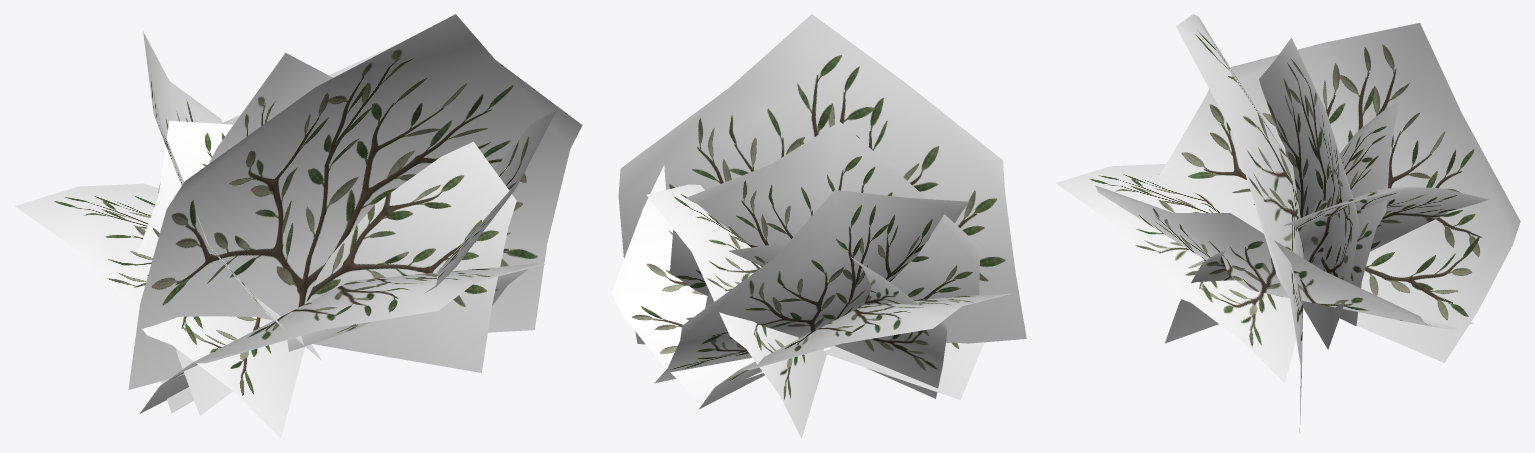
Rendered from Plant.fbx.
The picture shows the model from 3 angles, left to right: view 1: azimuth 30°, elevation 25°; view 2: azimuth 150°, elevation 25°; view 3: azimuth 270°, elevation 25°; orthographic projection. The views are drawn at different scales.
Visible parts, largest first — view 1: Plant_LOD0; view 2: Plant_LOD0; view 3: Plant_LOD0.
Boxes of the visible parts, x1,y1,x2,y2 form: Plant_LOD0: (15,14,582,438); Plant_LOD0: (611,14,1026,438); Plant_LOD0: (1056,14,1520,433).
Size of what is drawn, in the model's own units: 105 by 83.9 by 101.
